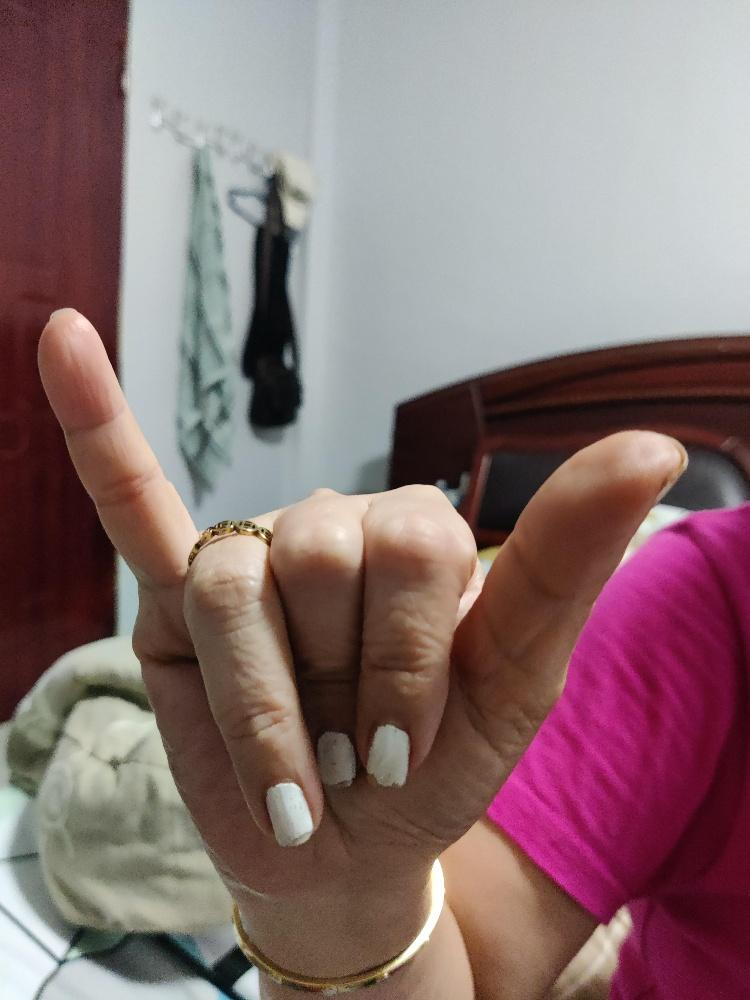y: (34, 303, 690, 904)
